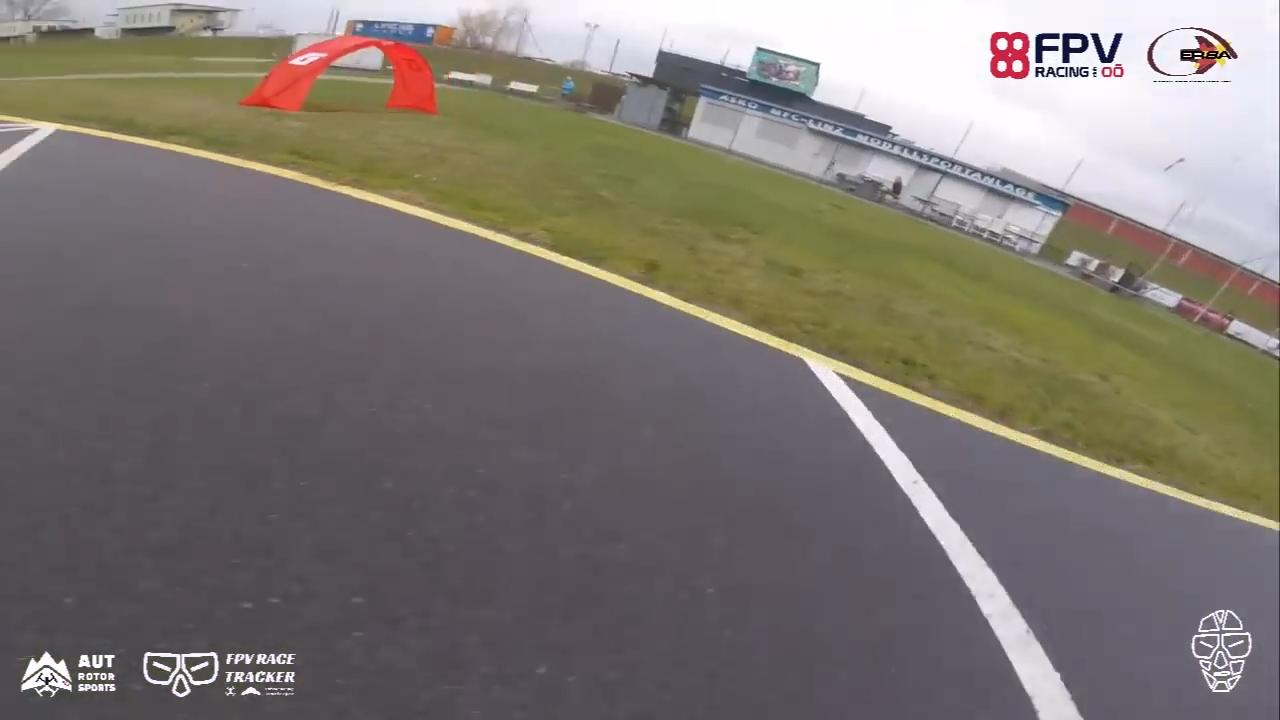gate: (235, 35, 441, 113)
